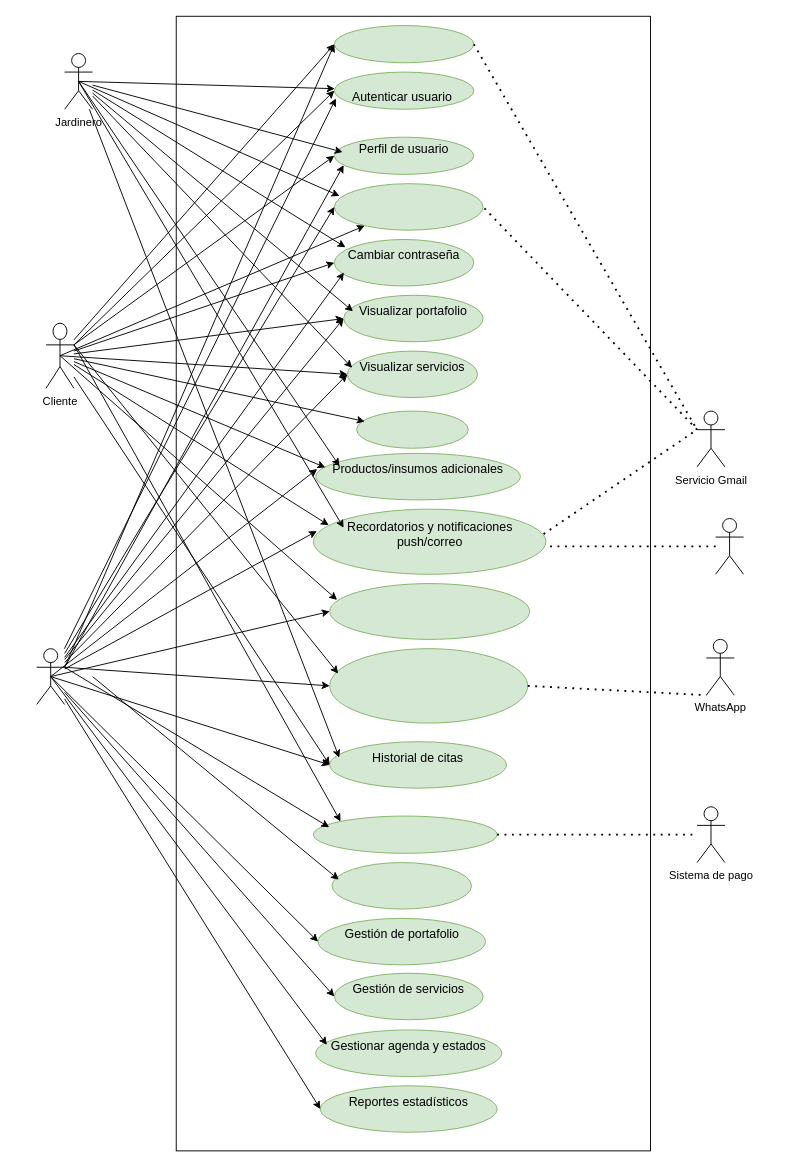
Some shapes in this 802 by 1167 pixel diagram are drawn without their labels. The box of each missing label's shape, as (x1, y1, x2, y2) in pixels:
Administrador: (36, 648, 65, 704)
Agendar cita: (356, 410, 468, 448)
Comentarios: Publicar y moderar: (329, 583, 530, 639)
Gestión de usuarios: (331, 862, 472, 909)
Mensajería: Chat interno y redirección a WhatsApp: (329, 648, 528, 723)
Pagos: (312, 815, 497, 853)
Recuperar de contraseña: (333, 183, 483, 230)
Registro de usuario: (333, 25, 474, 63)
Servicio Notificaciones: (715, 518, 744, 574)
